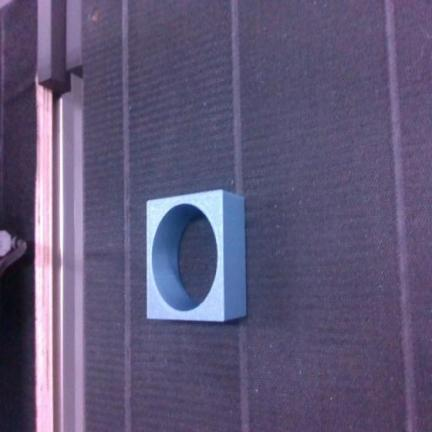hole: (147, 190, 246, 321)
